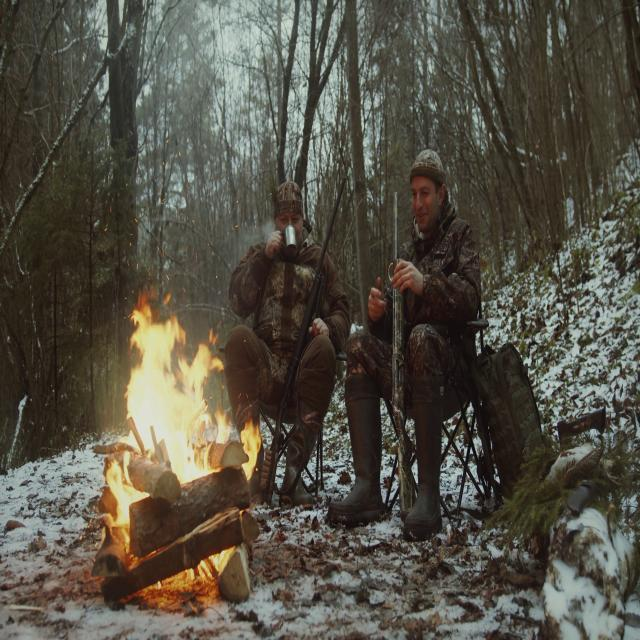Fire: (90, 266, 262, 584)
